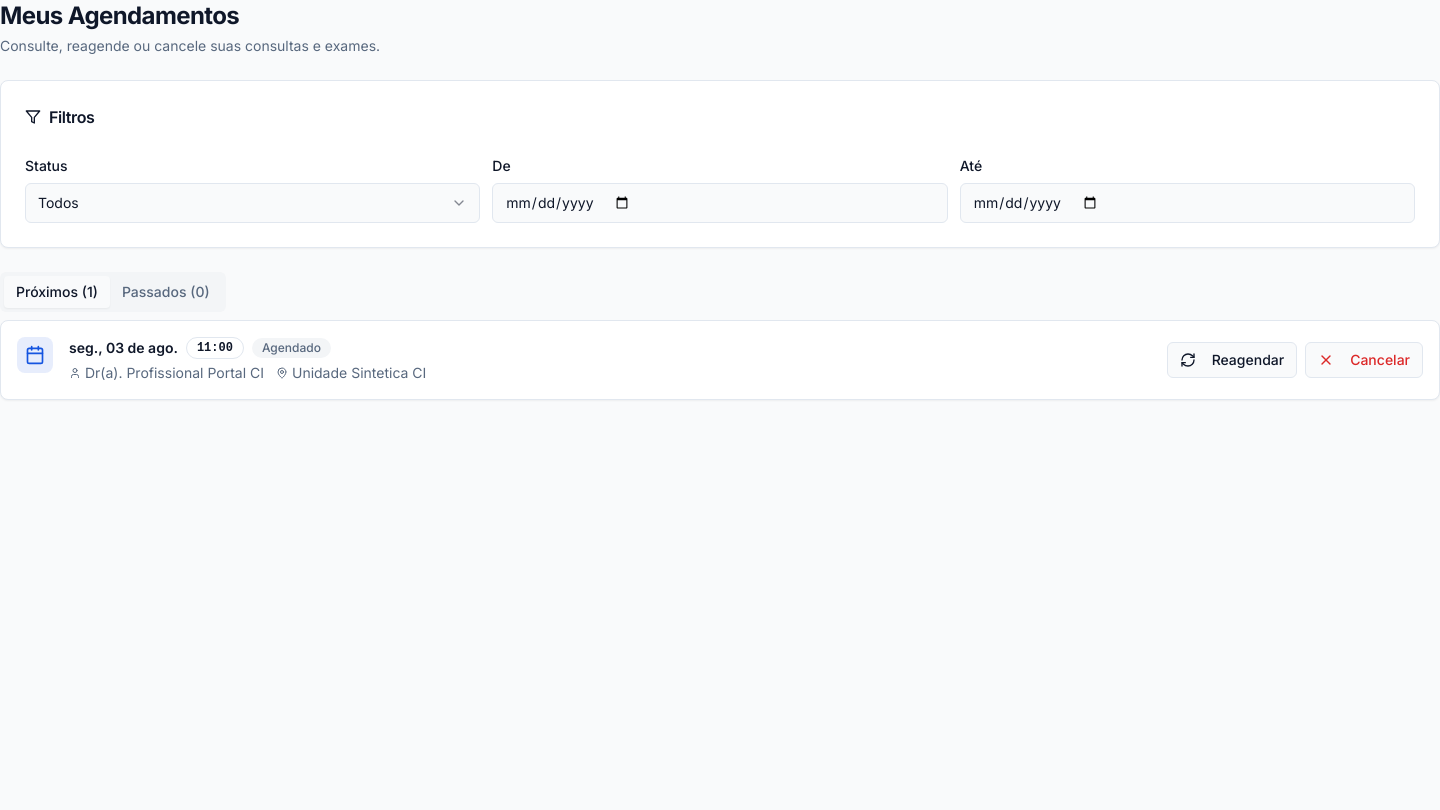
MeusAgendamentosPage › persiste o reagendamento e recarrega a fonte autoritativa
Click the button "Reagendar": (1232, 360) [1167,342,1297,378]
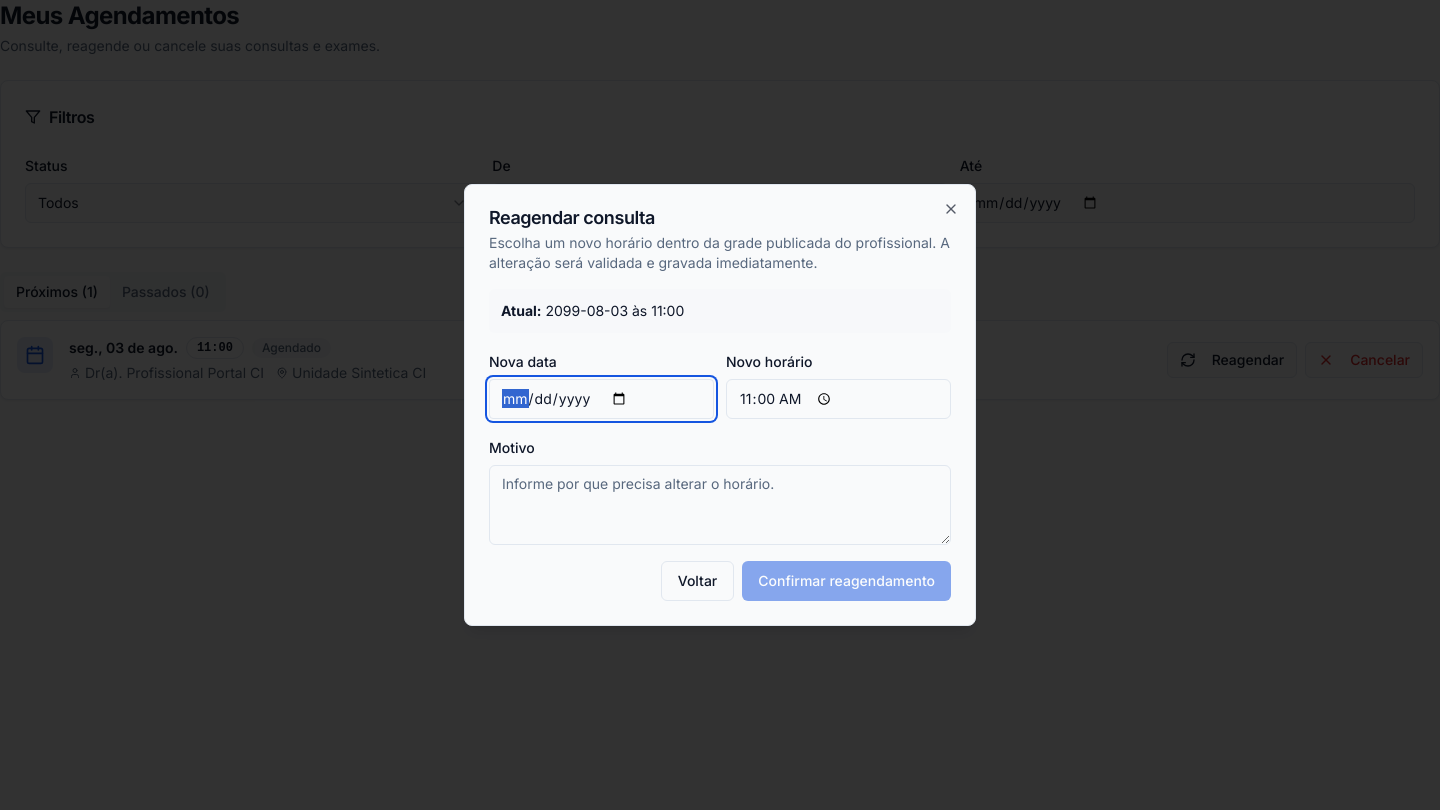
In the date field labelled "Nova data": (602, 399) [489,379,714,419], type "2099-08-10"
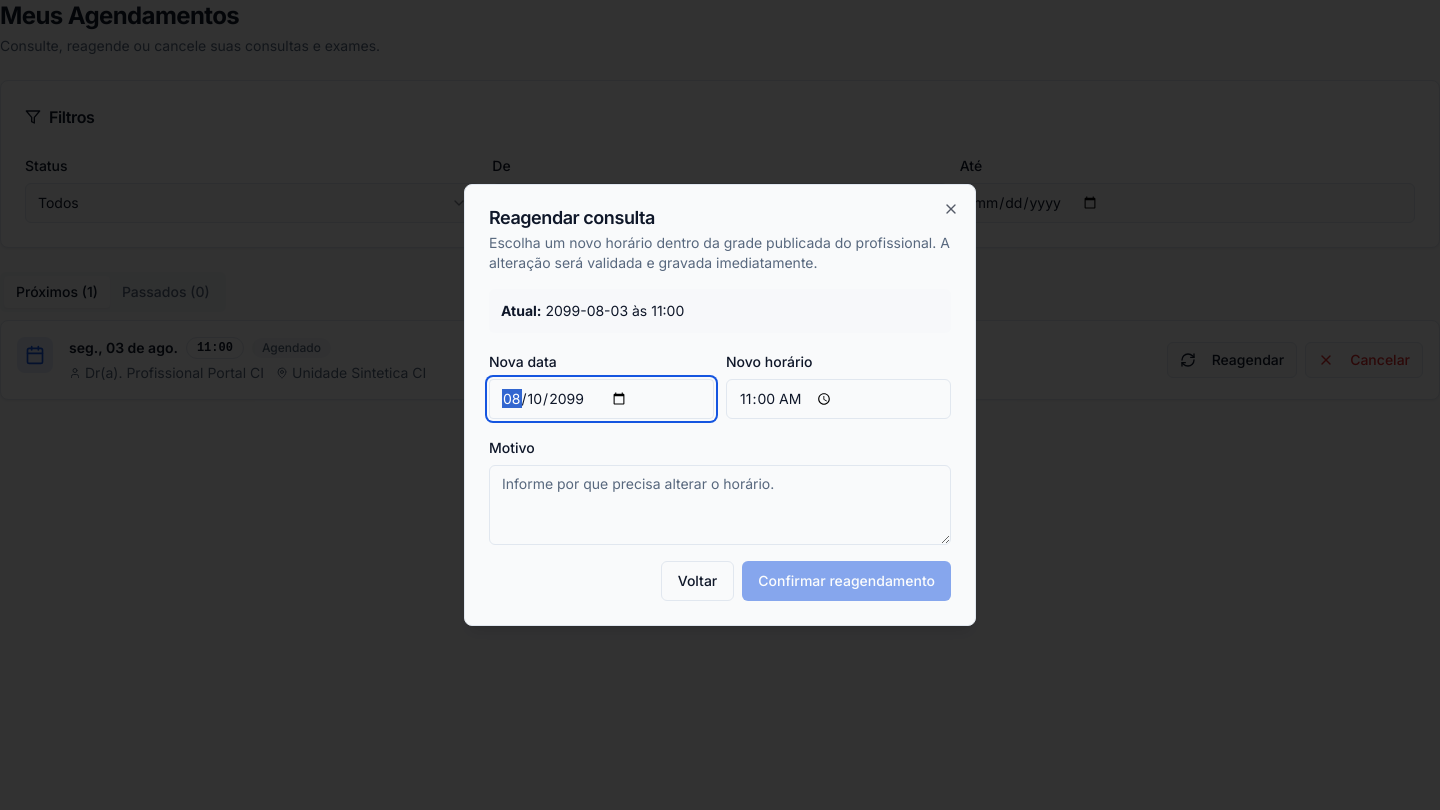
Replace the text in the time field labelled "Novo horário" with "14:00": (838, 399) [726,379,951,419]
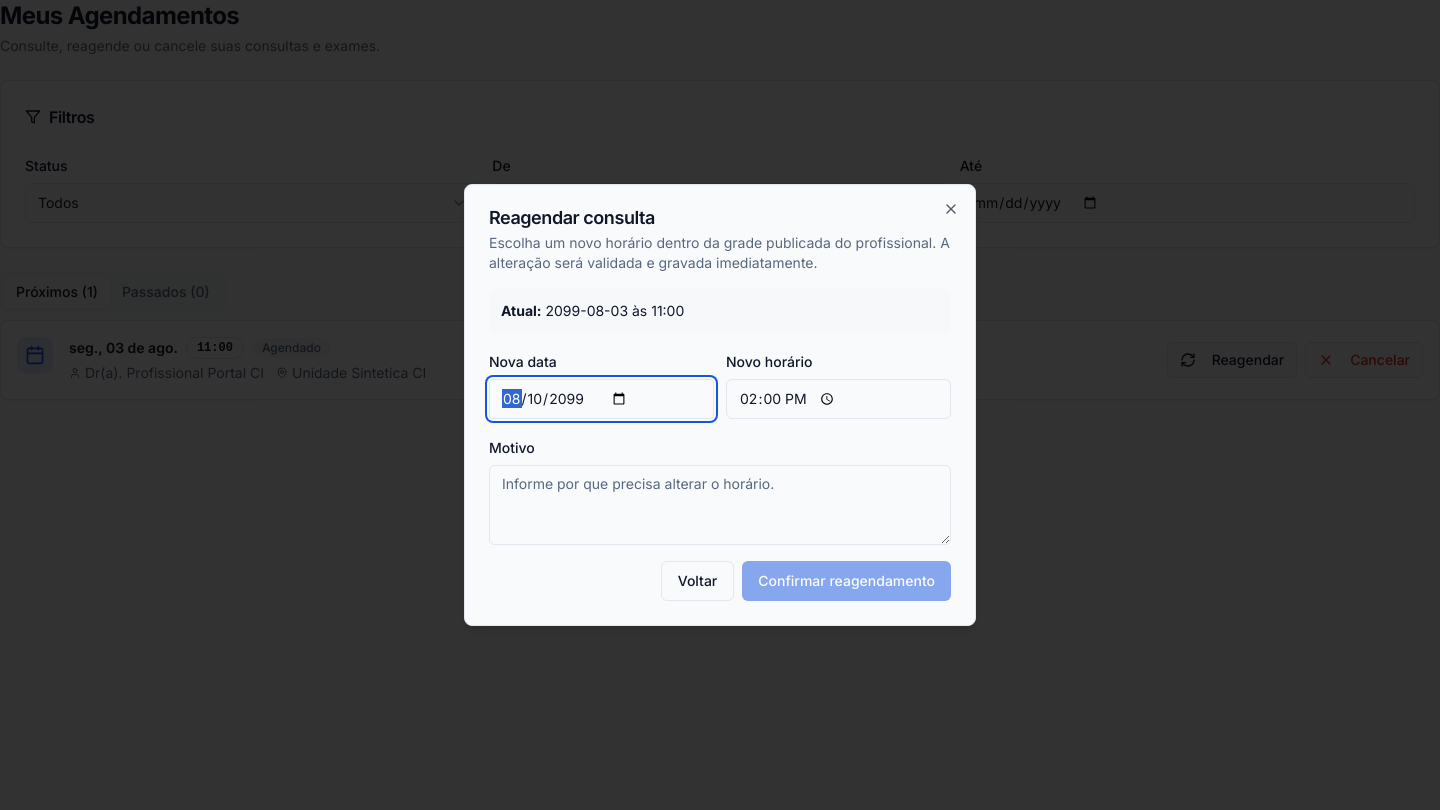
In the text box labelled "Motivo": (720, 505) [489,465,951,545], type "Conflito de horário familiar"
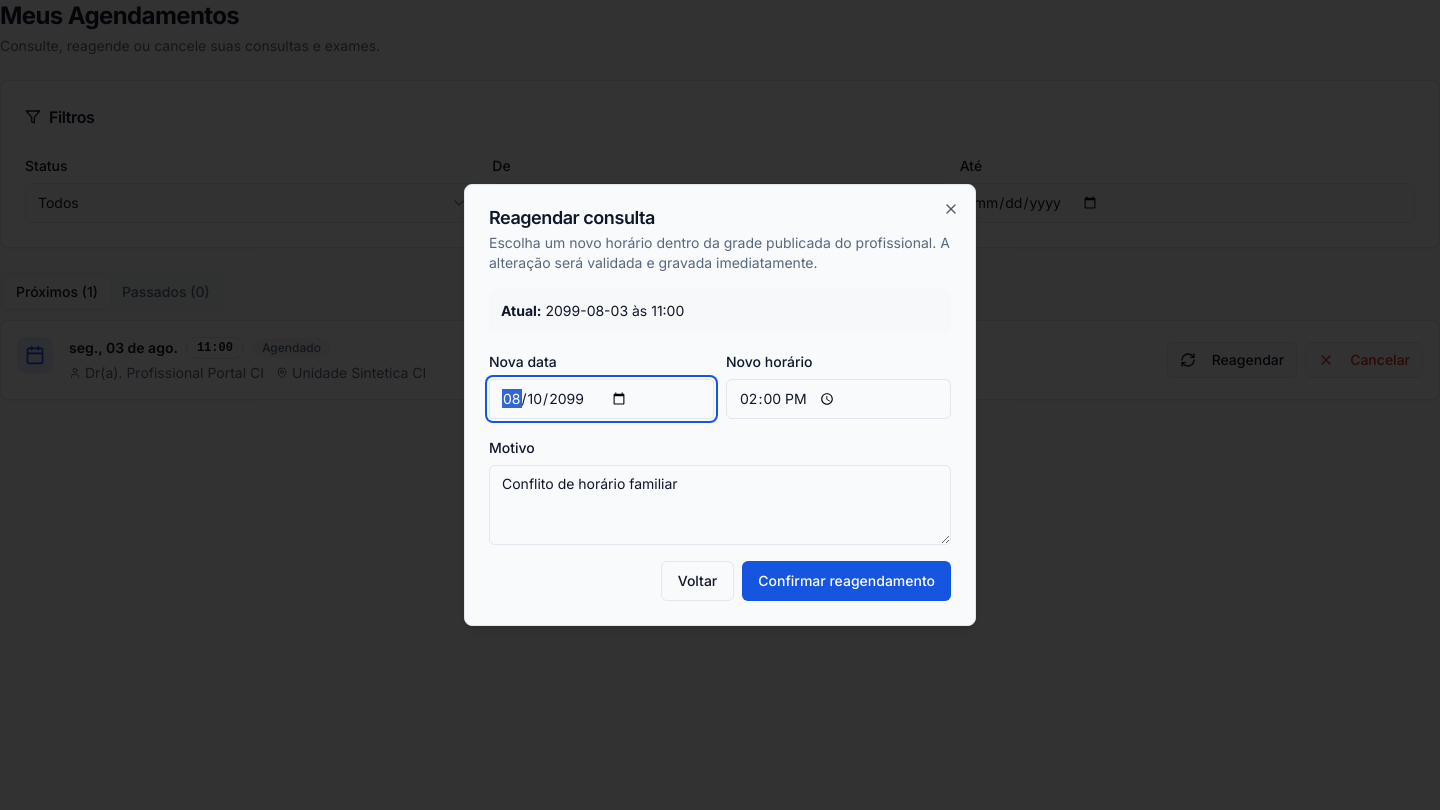
Click the button "Confirmar reagendamento": (847, 581) [742,561,951,601]
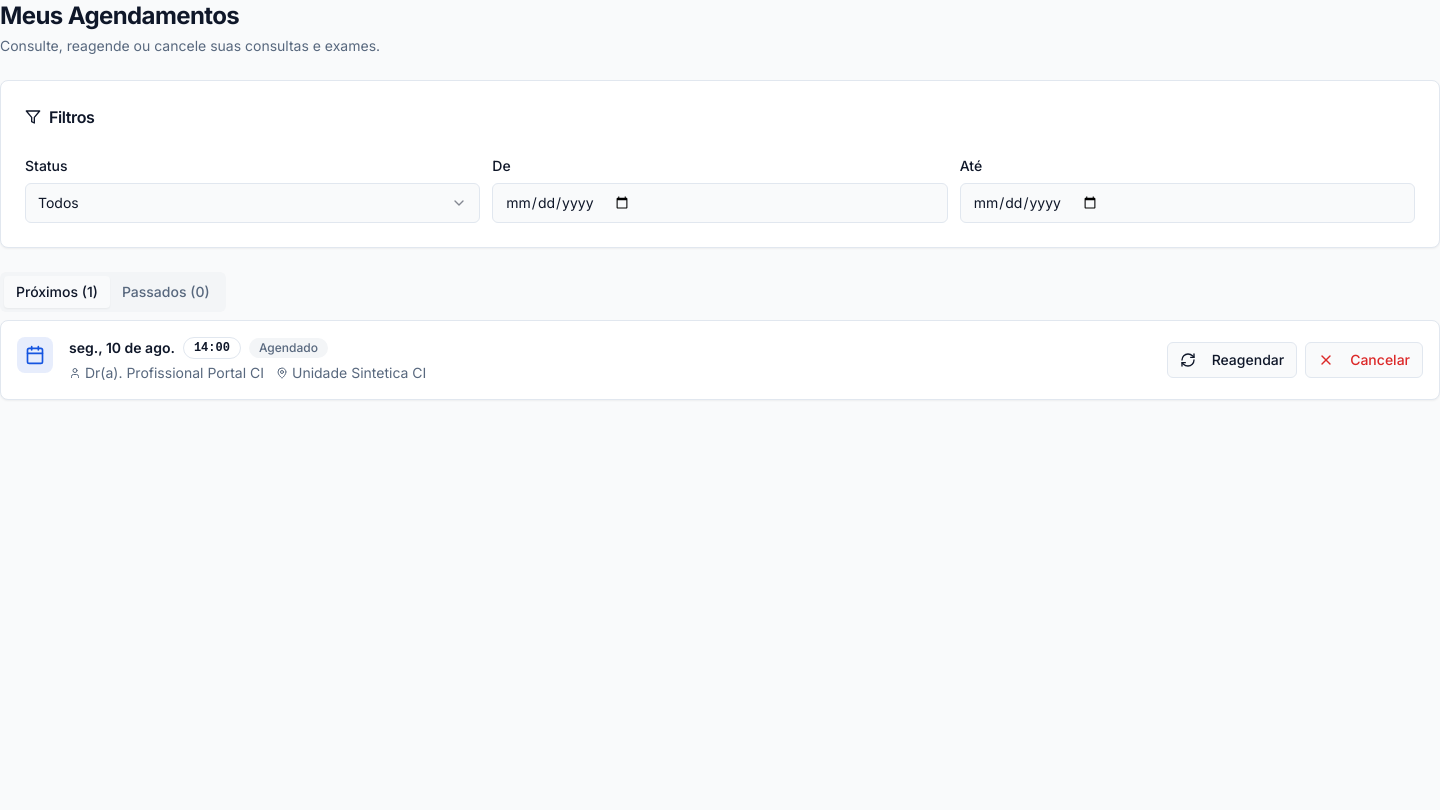
Expected: the text "seg., 10 de ago." is shown, [69,338,175,358]
Now the text "14:00" is shown, box [183,337,241,359]
